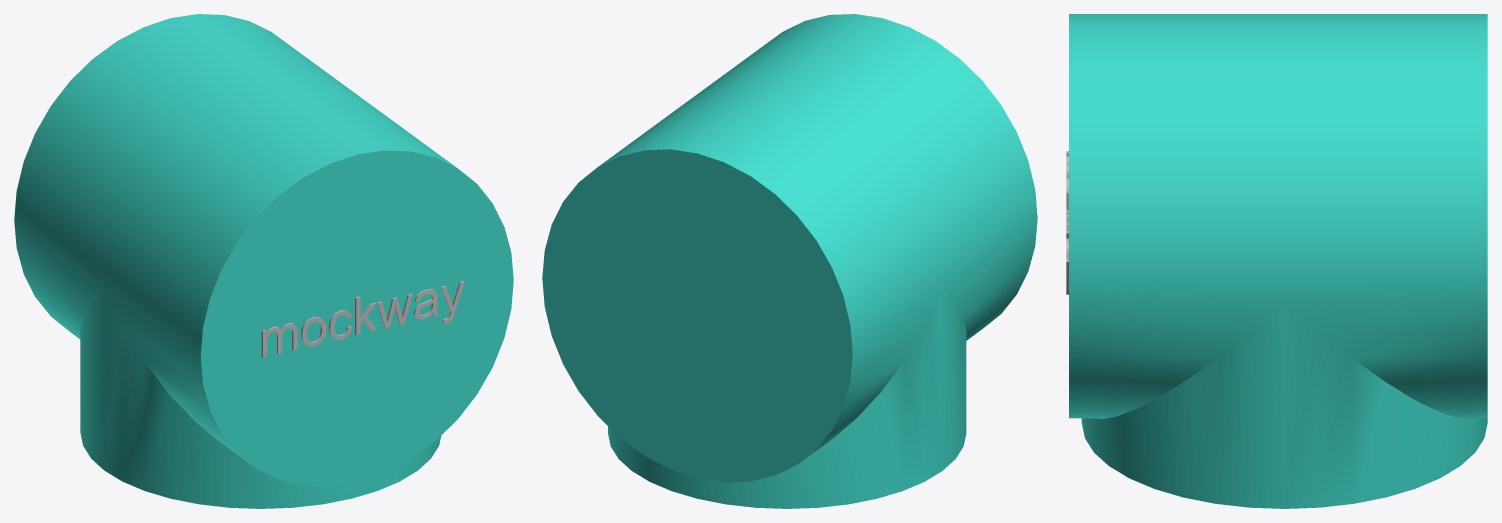
3 views of the same model, side by side, from view 1: azimuth 30°, elevation 25°; view 2: azimuth 150°, elevation 25°; view 3: azimuth 270°, elevation 25° (orthographic). The views are drawn at different scales.
Visible parts, largest first — view 1: link4; view 2: link4; view 3: link4.
Part boxes in pixels (x1,y1,x2,y2): link4: (14,14,513,508); link4: (542,14,1037,508); link4: (1066,14,1487,508).
Bounding box in the file's own units: 0.0634 × 0.0658 × 0.0726.
